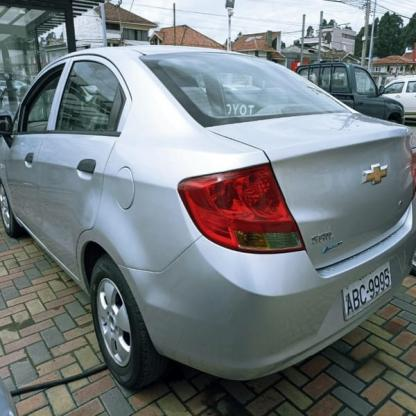Placa: (341, 257, 400, 316)
